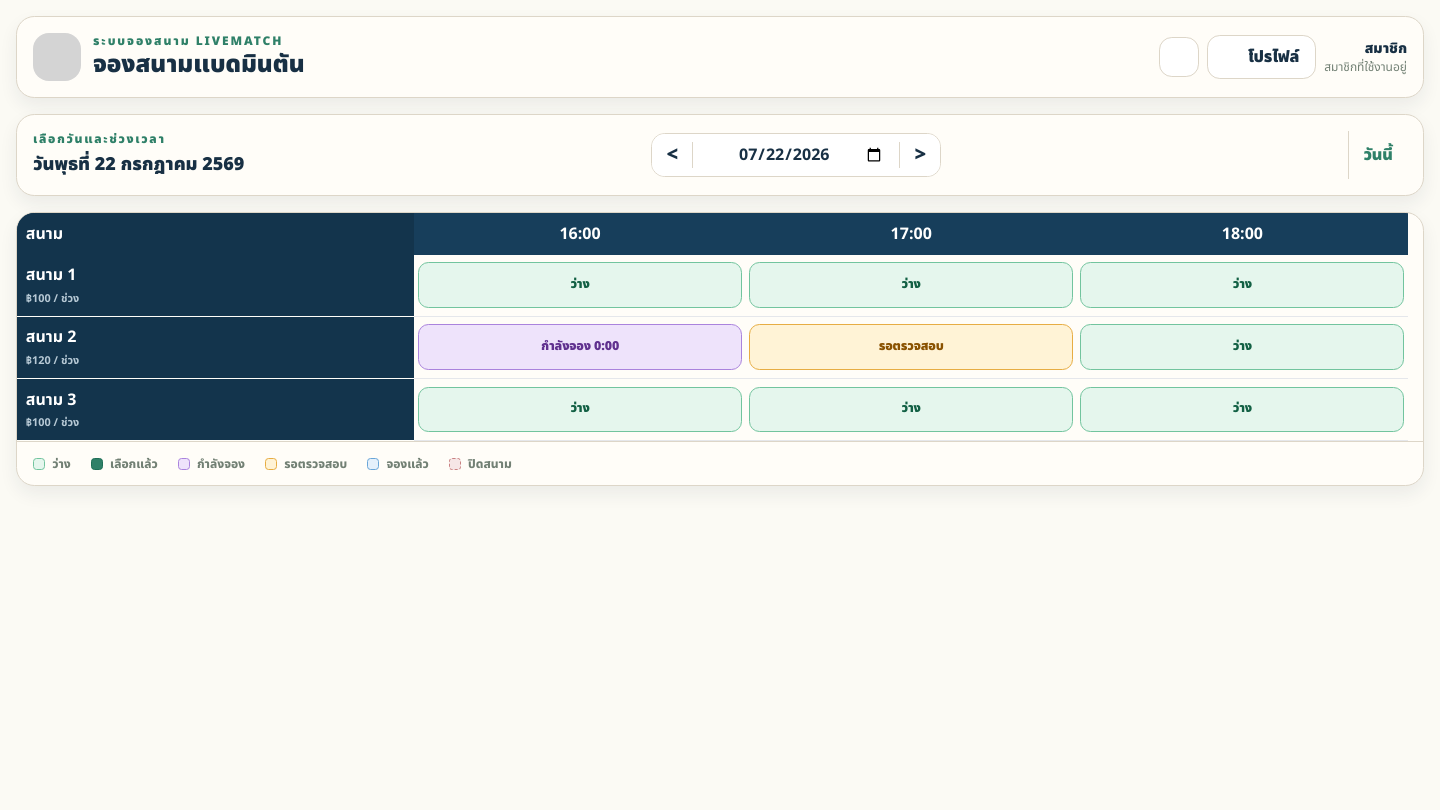
PublicBookingPage › separates statuses and supports independent multi-court slot selection
Expected: the button "กำลังจอง 0:00" is shown, [418,324,742,370]
Expected: the button "รอตรวจสอบ" is shown, [749,324,1073,370]
Step 1. Click the button with test id "slot-court-1-960" → x=580, y=285, box [418,262,742,308]
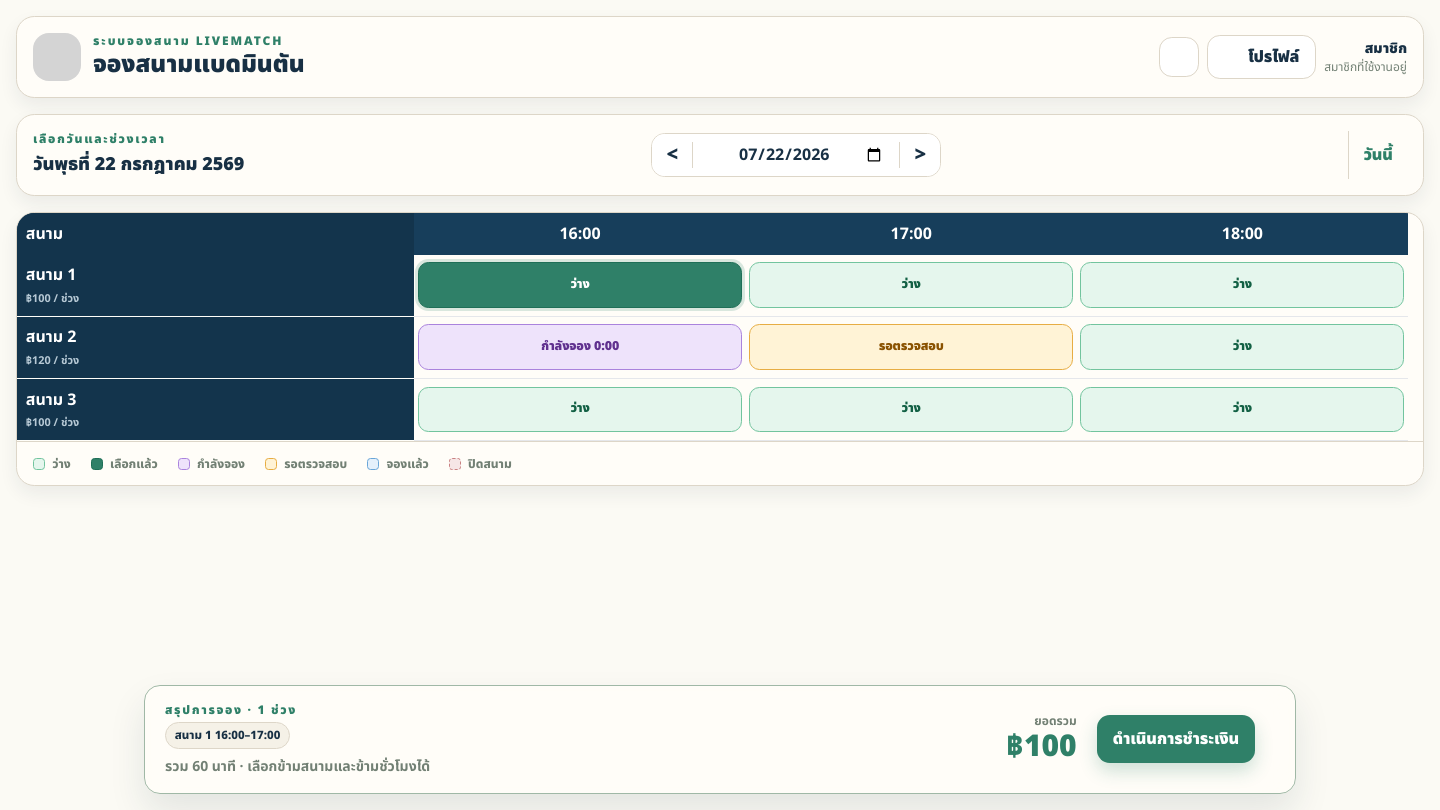
Result: the element with test id "booking-summary" is shown at [144,685,1296,794]
Step 2. Click the button with test id "slot-court-1-1020" → x=911, y=285, box [749,262,1073,308]
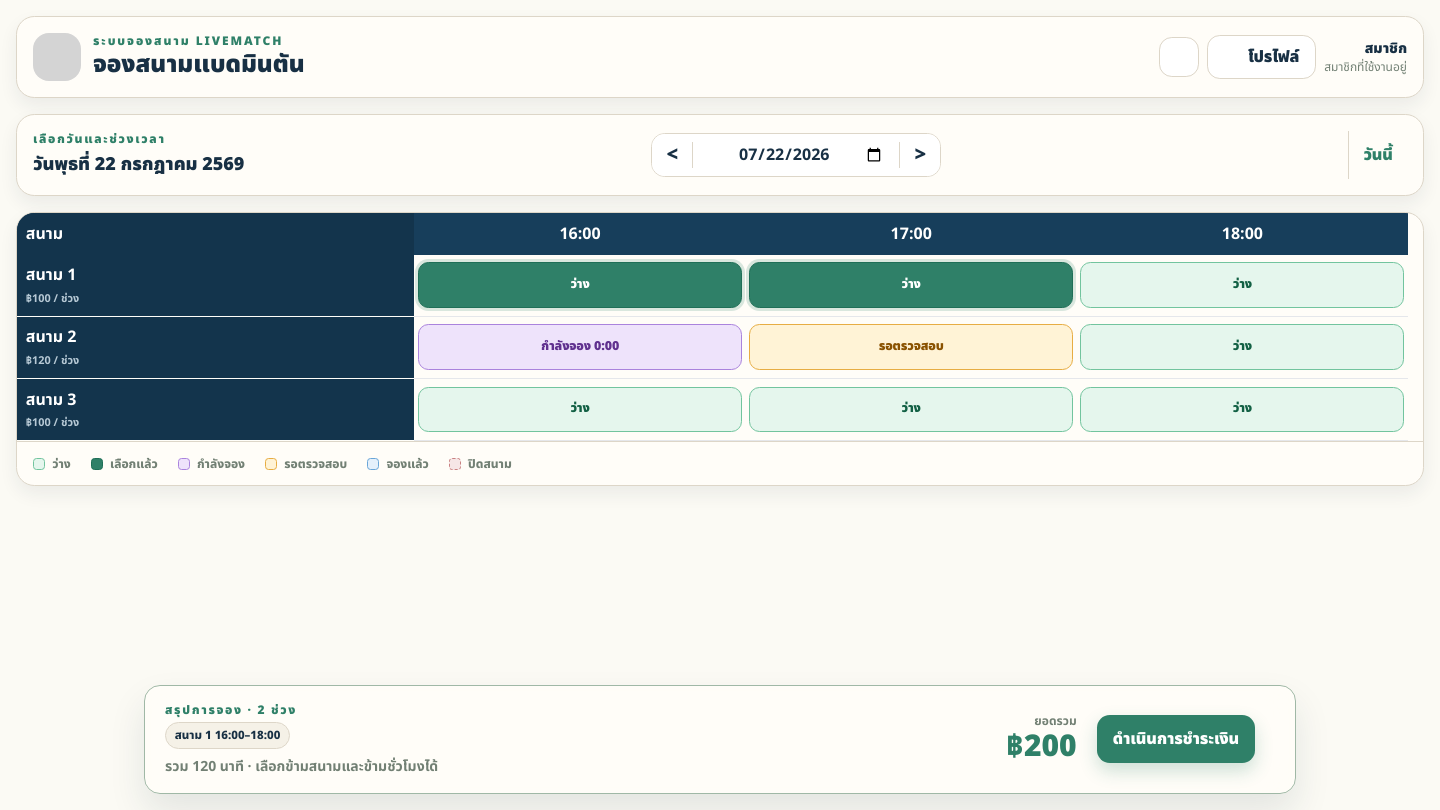
Result: the element with test id "booking-summary" shows "120 นาที" at [165,756,438,777]
Result: the element with test id "booking-summary" shows "฿200" at [1006,724,1077,770]
Step 3. Click the button with test id "slot-court-1-960" → x=580, y=285, box [418,262,742,308]
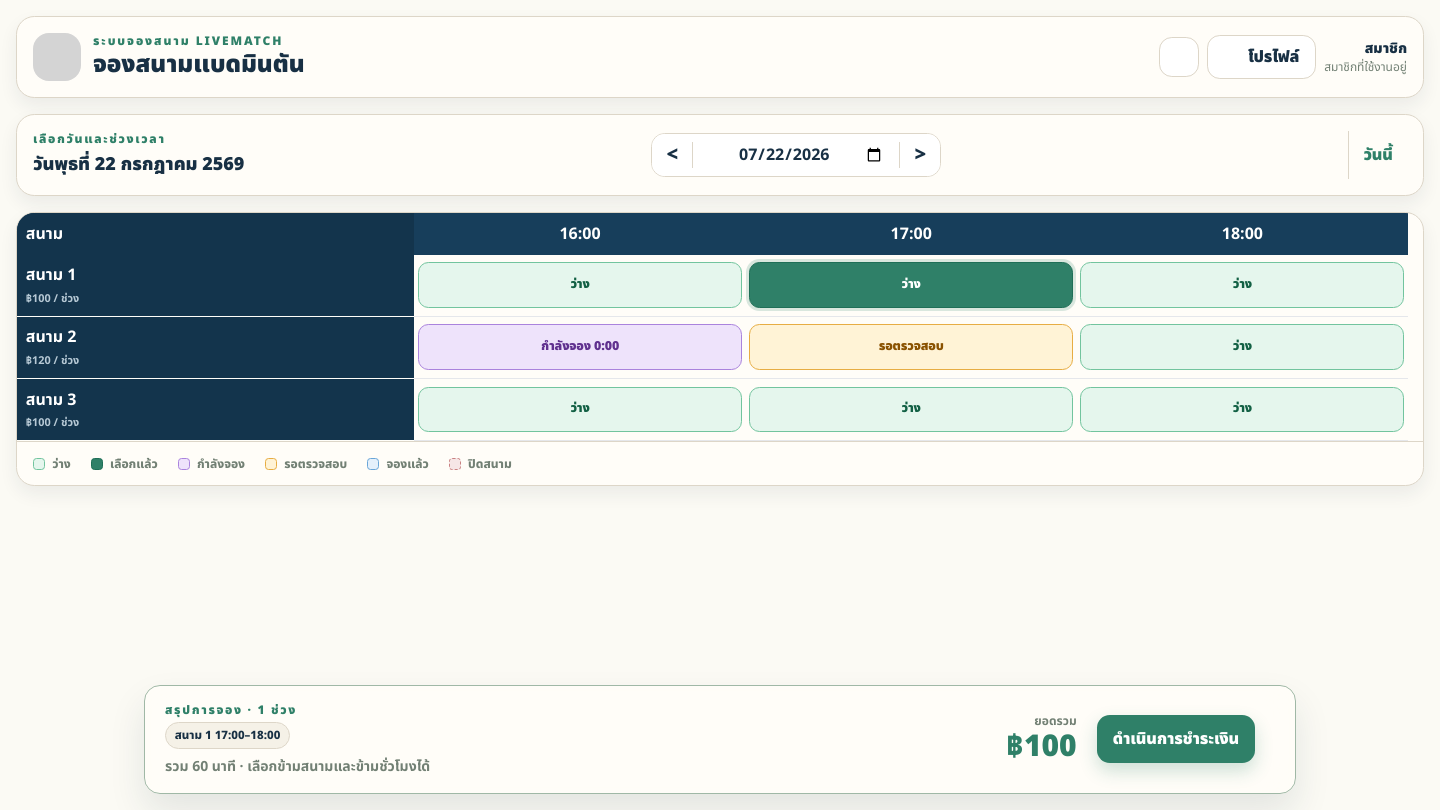
Result: the element with test id "booking-summary" shows "60 นาที" at [165,756,430,777]
Step 4. Click the button with test id "slot-court-1-1020" → x=911, y=285, box [749,262,1073,308]
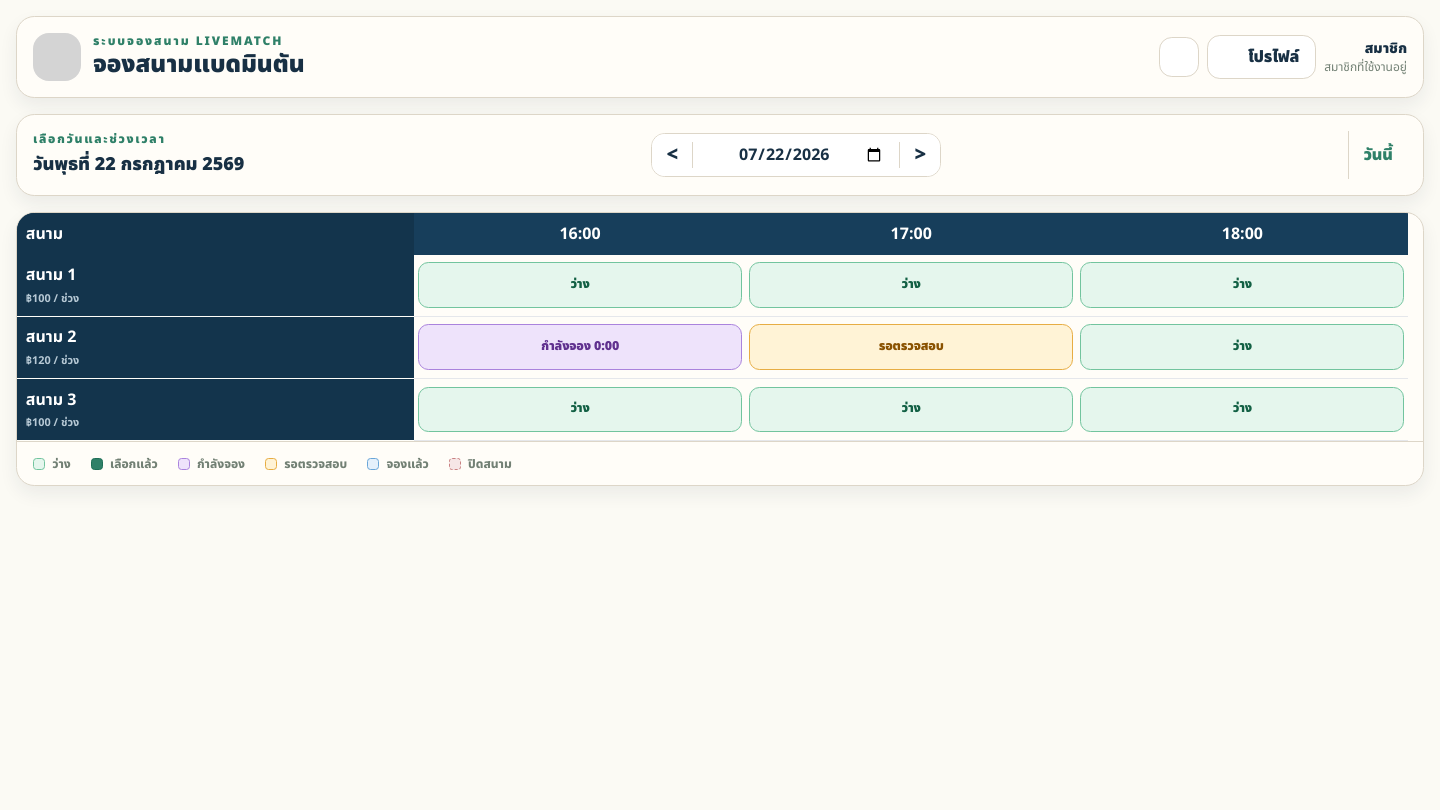
Step 5. Click the button with test id "slot-court-1-960" → x=580, y=285, box [418,262,742,308]
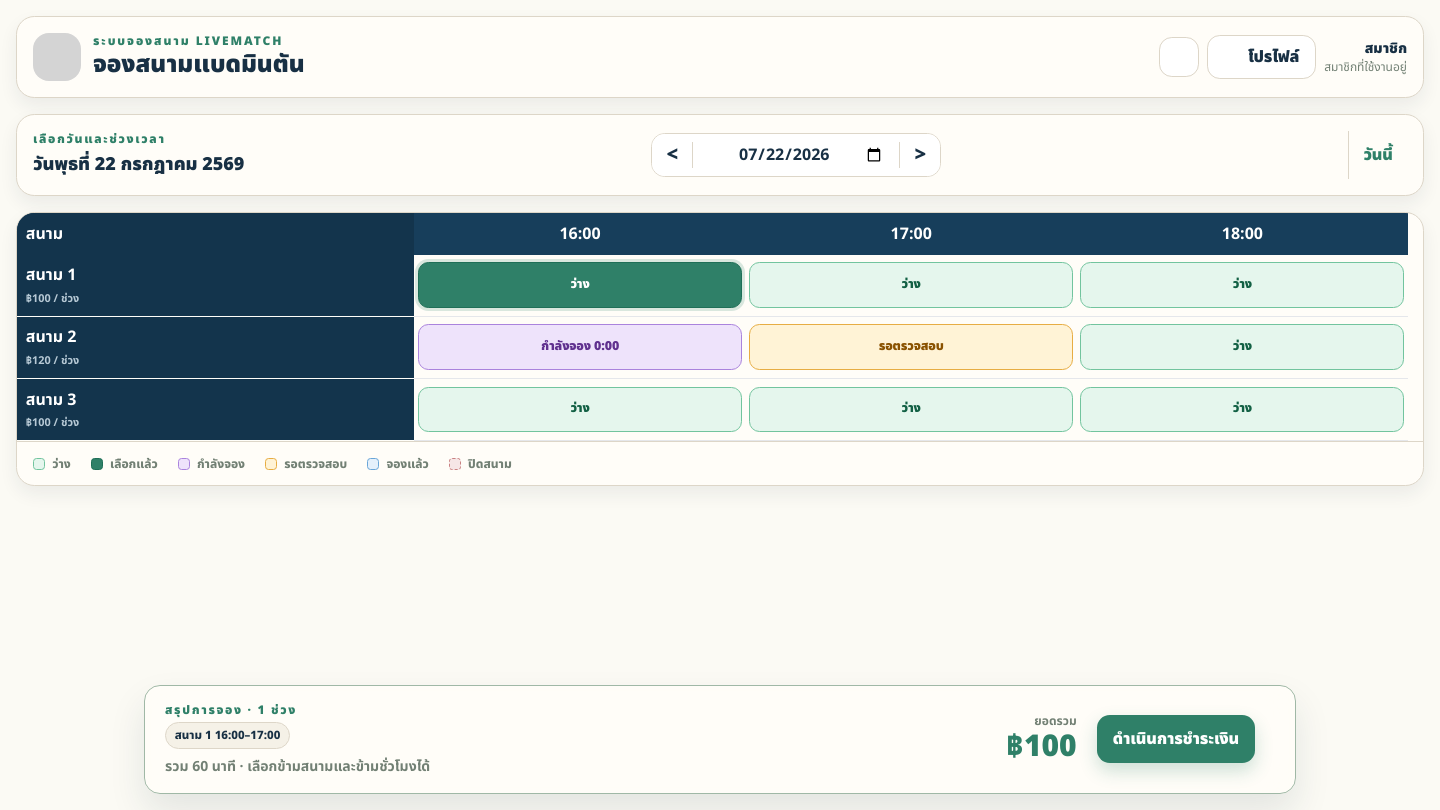
Step 6. Click the button with test id "slot-court-3-1020" → x=911, y=409, box [749,386,1073,432]
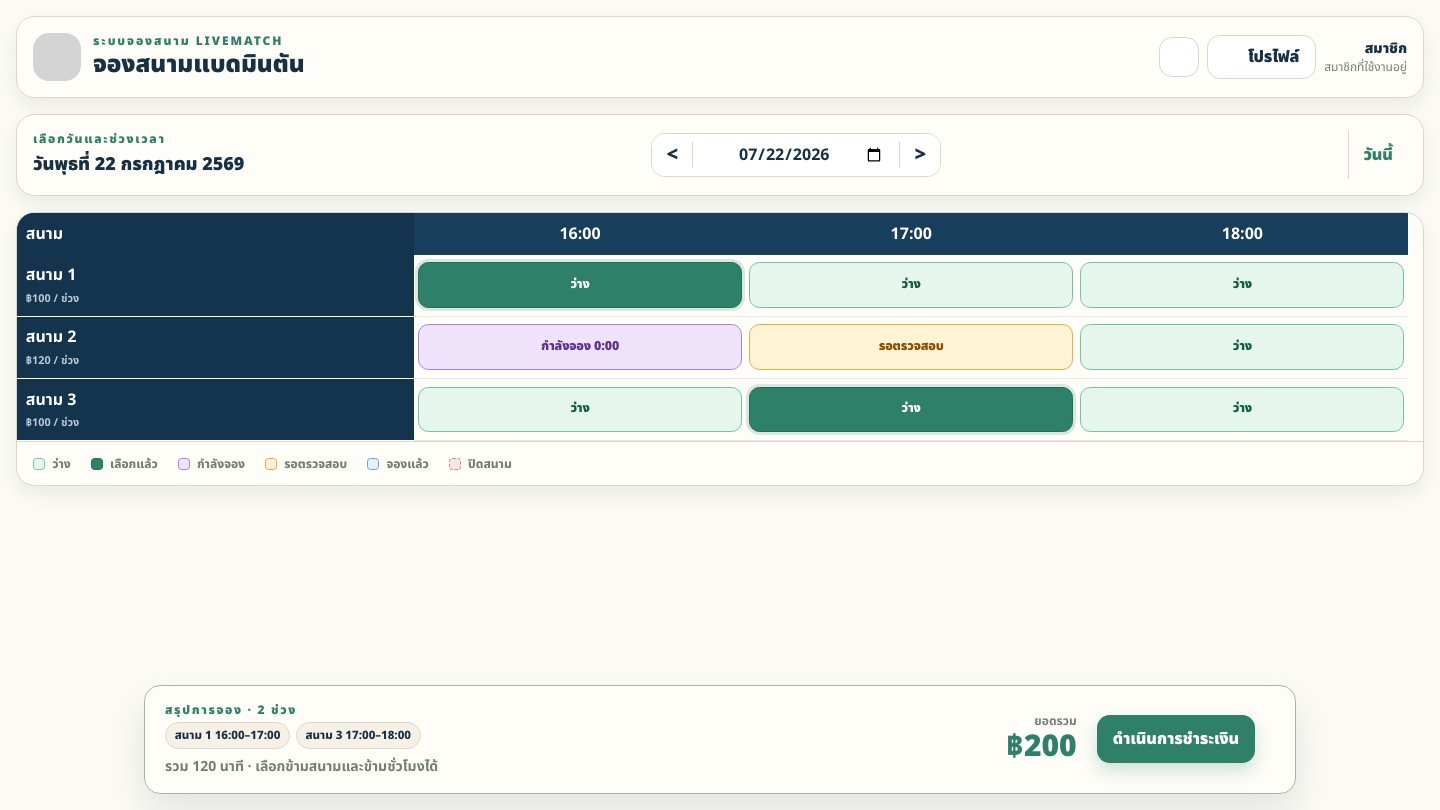
Result: the element with test id "booking-summary" shows "2 ช่วง" at [165,701,297,719]
Result: the element with test id "booking-summary" shows "฿200" at [1006,724,1077,770]
